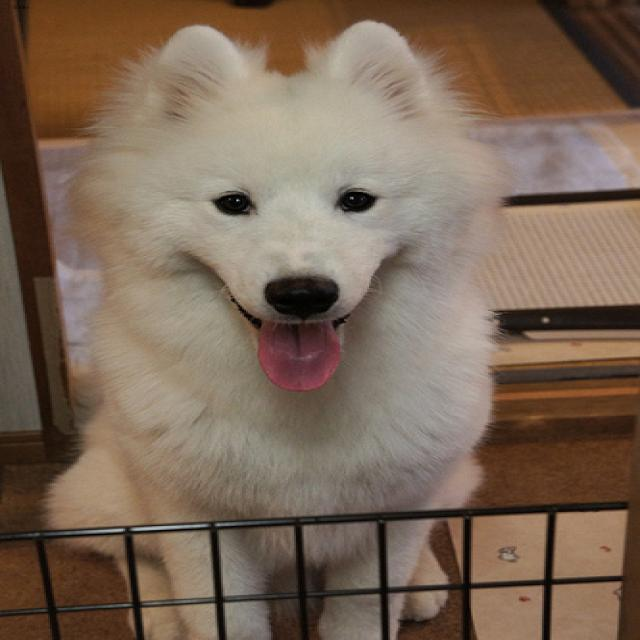dog-samoyed: (29, 4, 519, 637)
